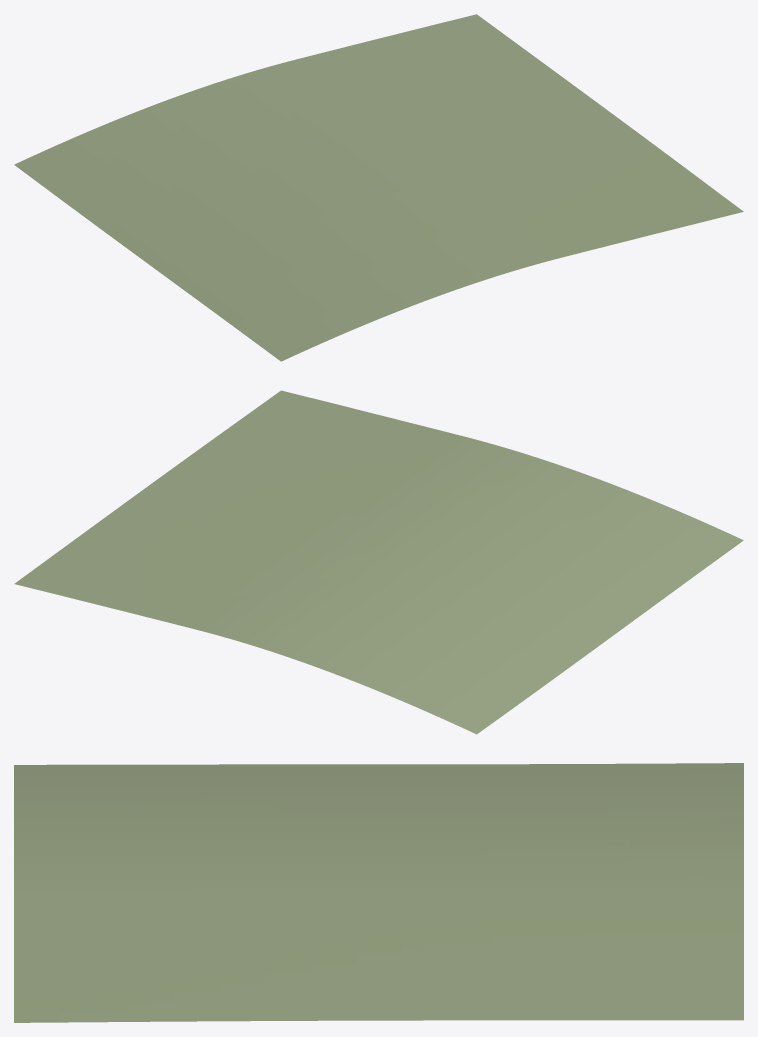
File: desert-24-1.glb
3 views of the same model, one above another, from view 1: azimuth 30°, elevation 25°; view 2: azimuth 150°, elevation 25°; view 3: azimuth 270°, elevation 25° (orthographic). The views are drawn at different scales.
Visible parts, largest first — view 1: desert-24-1; view 2: desert-24-1; view 3: desert-24-1.
Part boxes in pixels (box(x1,y1,x2,y2)): desert-24-1: box(14, 14, 743, 361); desert-24-1: box(14, 390, 743, 734); desert-24-1: box(14, 763, 743, 1022).
Size of the model in its own units: 512 by 41.21 by 512.
